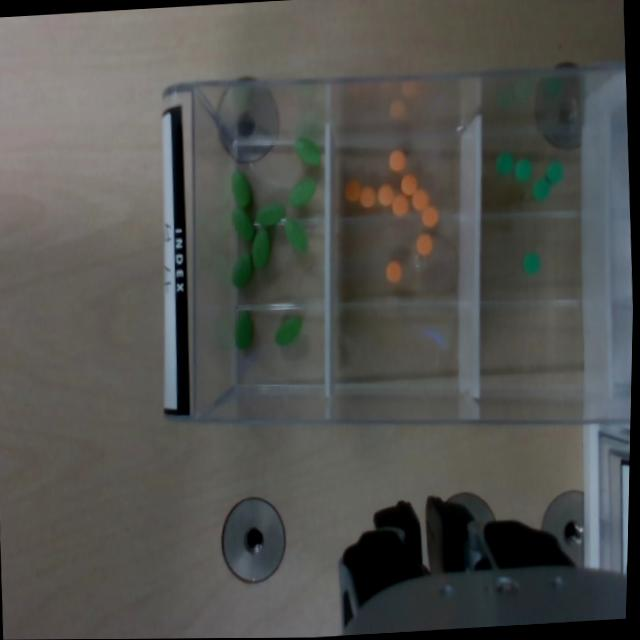famodine: (522, 249, 540, 273), (530, 177, 550, 198), (514, 158, 532, 181), (496, 149, 513, 173), (546, 159, 563, 182)
otillen_tab: (286, 172, 317, 205), (273, 313, 302, 344), (293, 134, 320, 166), (283, 217, 307, 253), (230, 206, 254, 241), (250, 225, 270, 267), (250, 224, 269, 267), (275, 314, 301, 345), (233, 308, 253, 348), (231, 168, 251, 208), (230, 169, 251, 207), (294, 135, 320, 165), (230, 251, 252, 286), (283, 218, 306, 251), (288, 177, 314, 206), (253, 201, 285, 224), (230, 249, 251, 284), (232, 207, 253, 241), (234, 309, 252, 348), (256, 203, 284, 225)
samsung_octylonium_tab: (412, 187, 429, 210), (391, 194, 409, 215), (359, 185, 376, 207), (400, 173, 417, 194), (344, 178, 360, 200), (385, 260, 401, 282), (389, 148, 405, 169), (378, 183, 394, 204), (416, 233, 432, 254), (422, 206, 438, 227)
